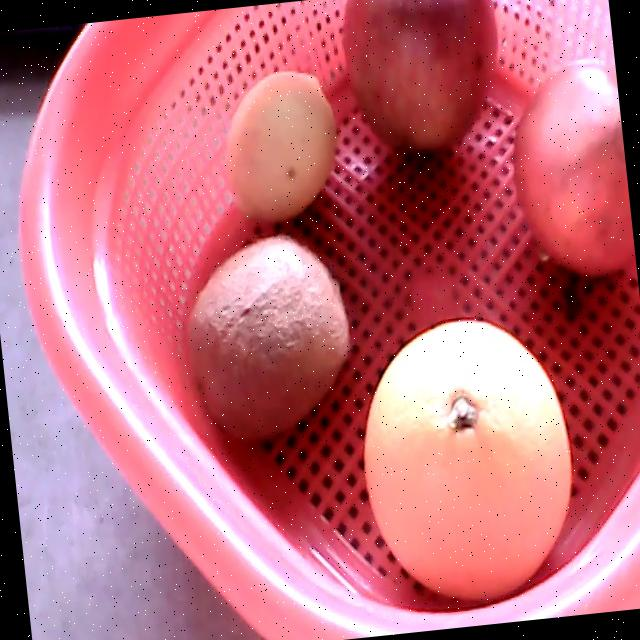apple: (343, 0, 497, 154)
kiwi: (188, 238, 350, 438)
lemon: (222, 69, 337, 221)
orange: (364, 317, 571, 600)
pomegranate: (511, 59, 634, 277)
